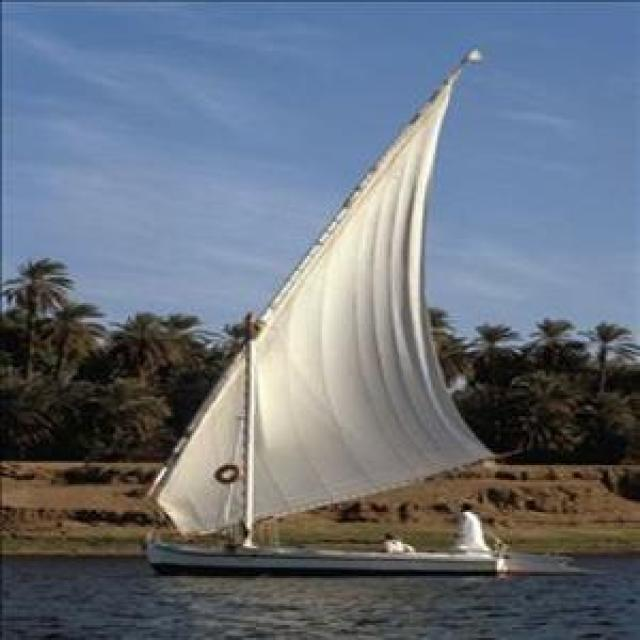sailboat: (143, 36, 544, 576)
